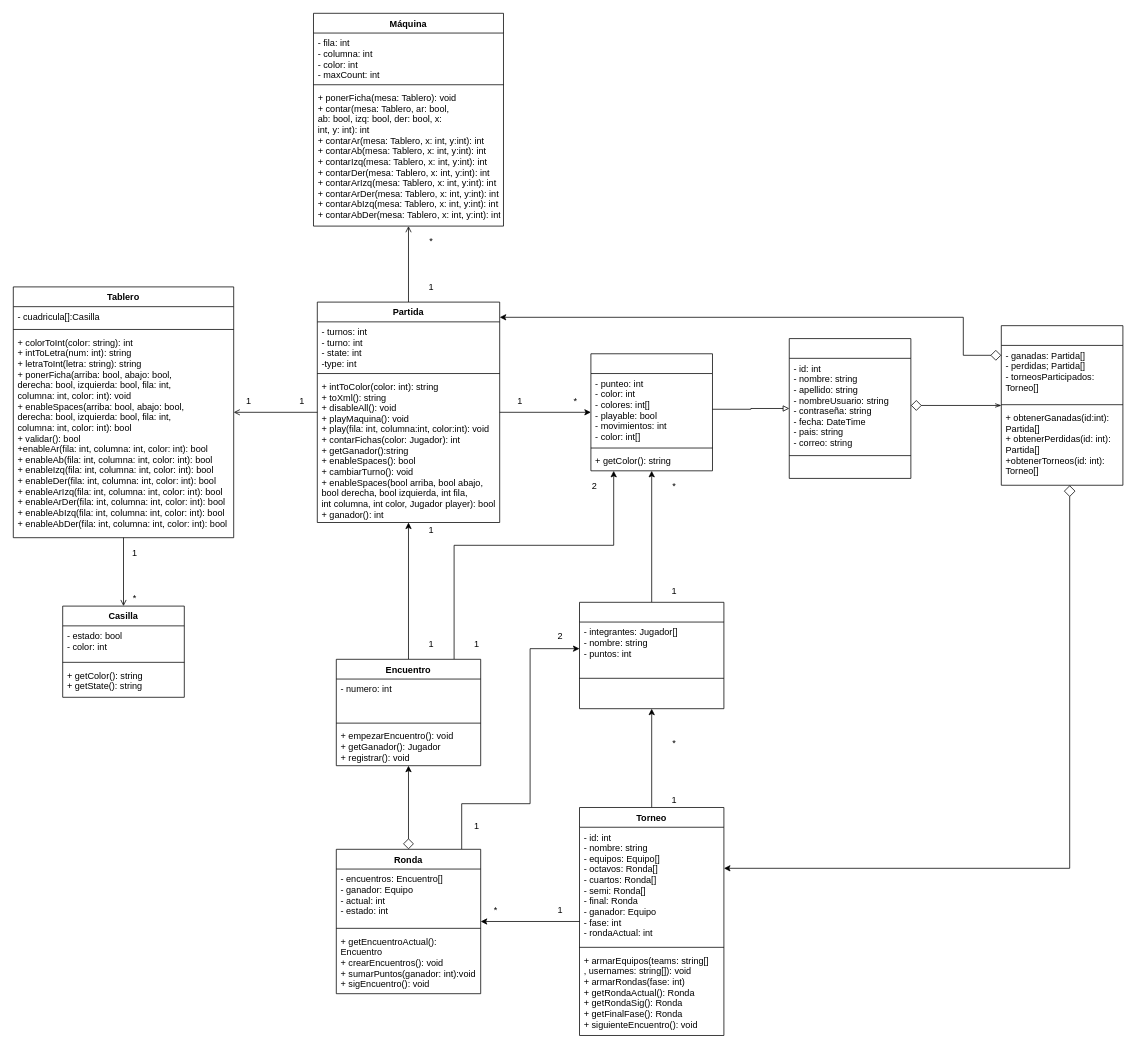
Image size: 1136x1051. Some labels were removed from this diagram. Here are the shapes that lost their labels. From the top down, the box of each, then its label:
(590, 353, 712, 471): Jugador
(788, 338, 911, 478): User
(1001, 325, 1123, 485): Perfil
(579, 602, 724, 709): Equipo
